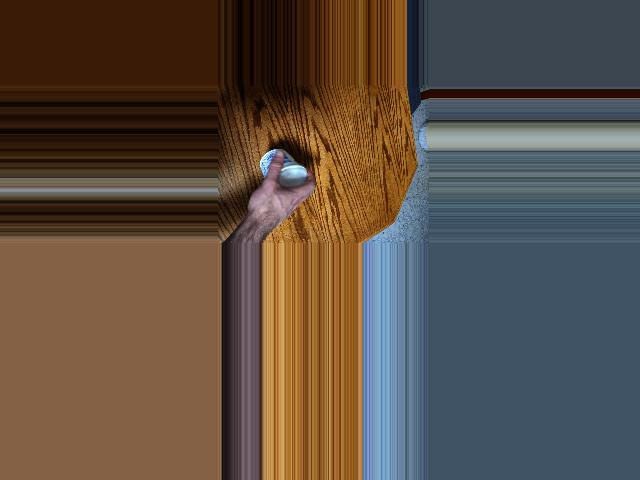cotage: (264, 147, 317, 190)
